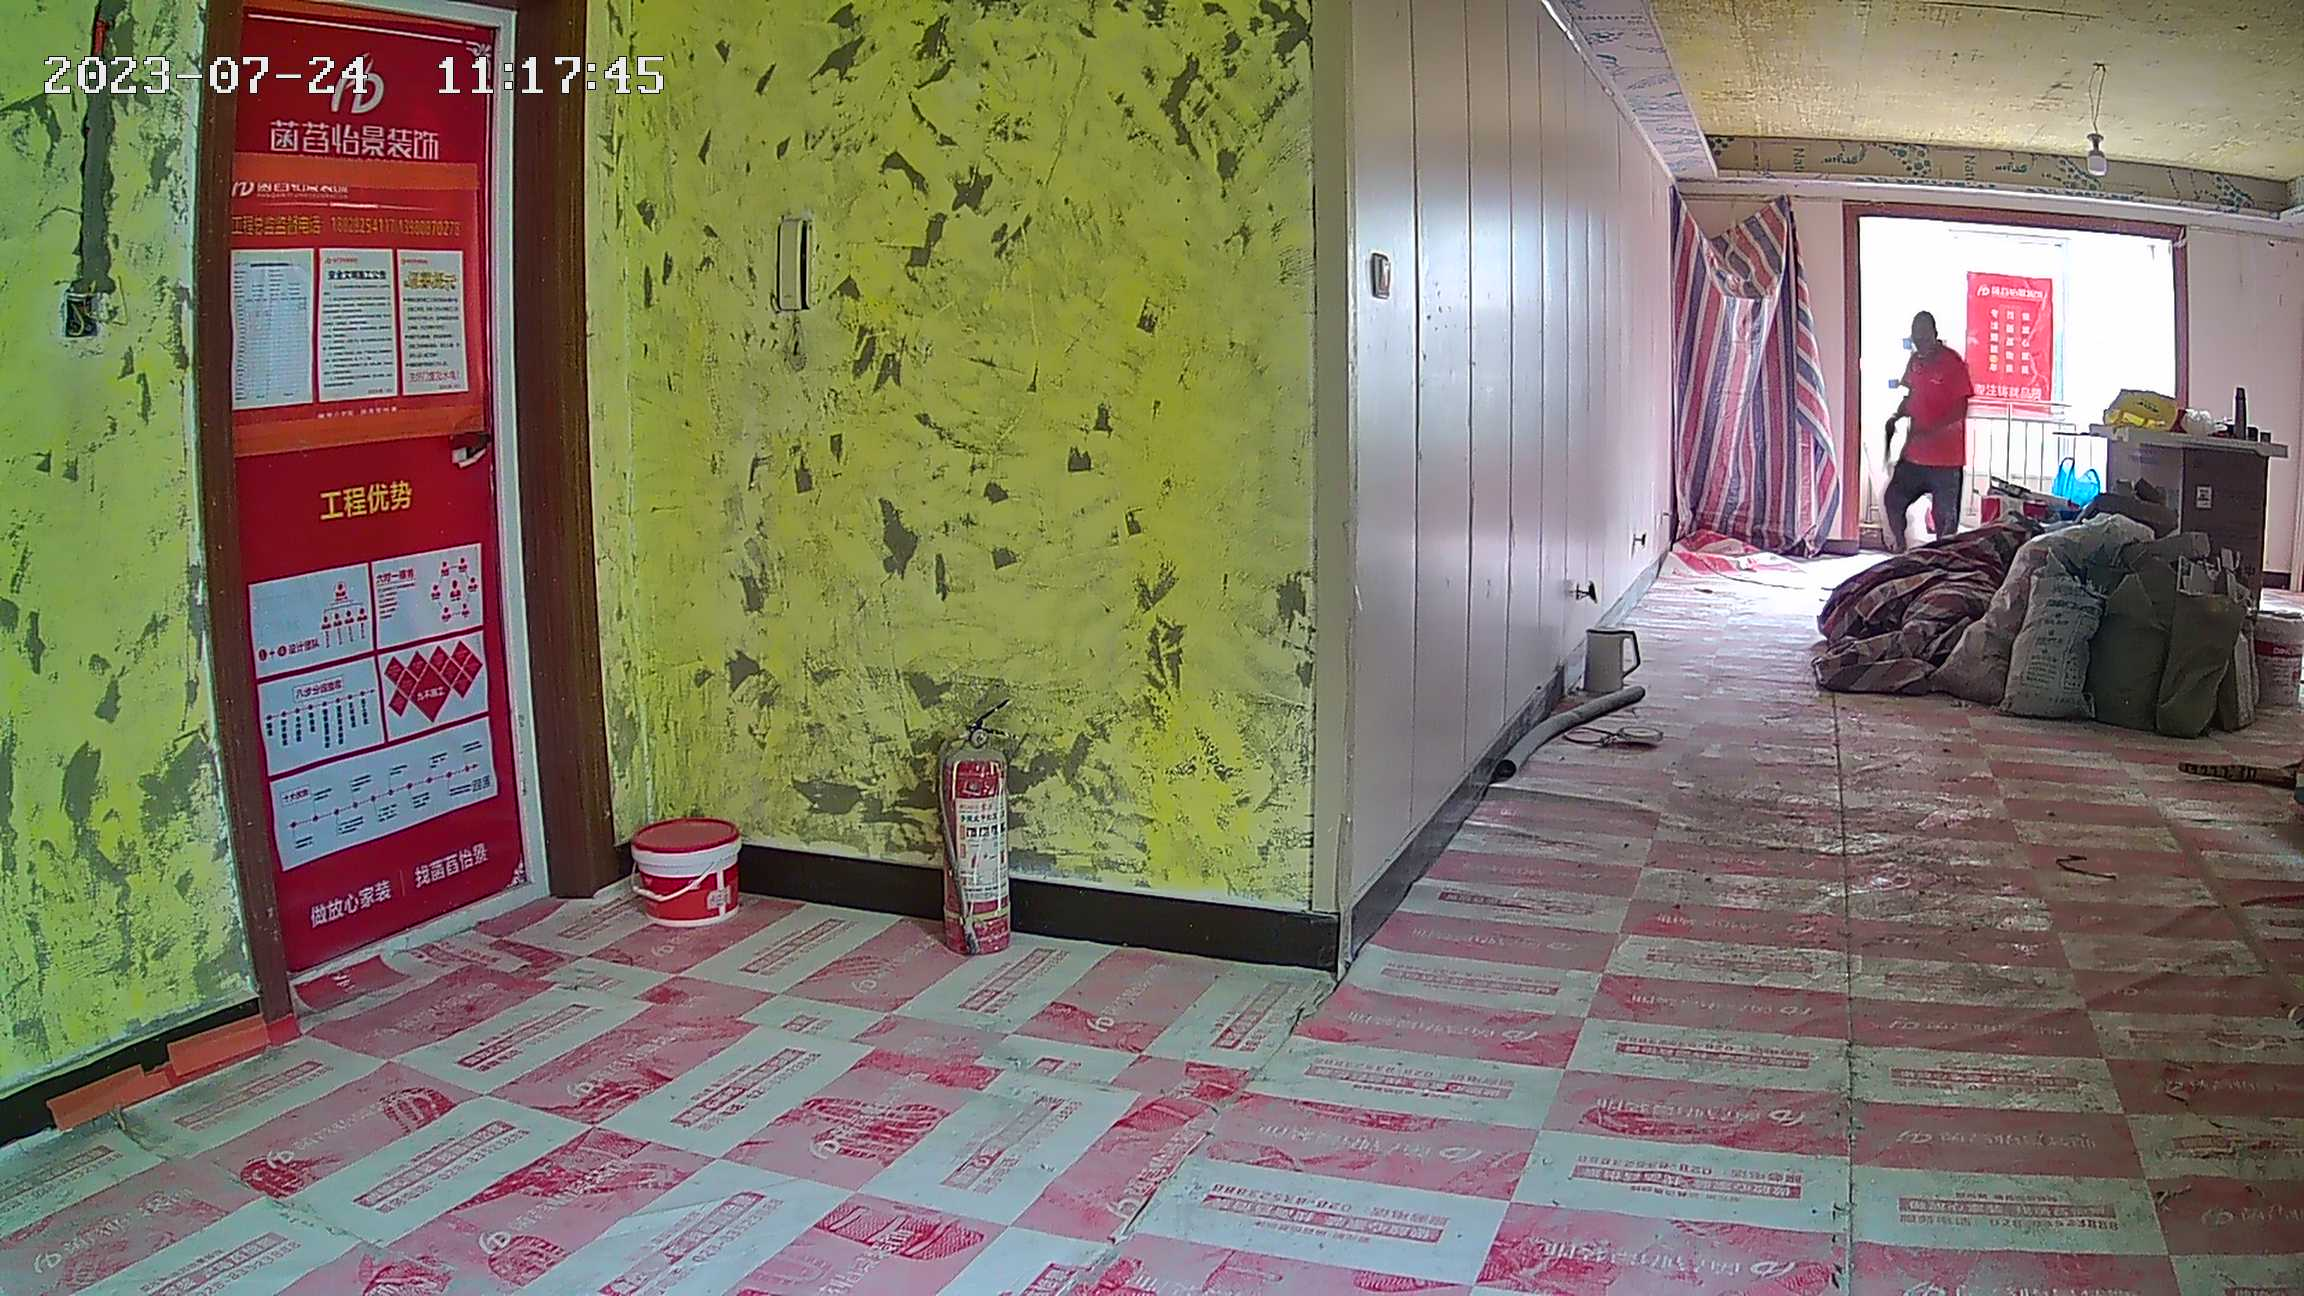people: (1875, 312, 1972, 553)
window: (1852, 211, 2182, 527)
